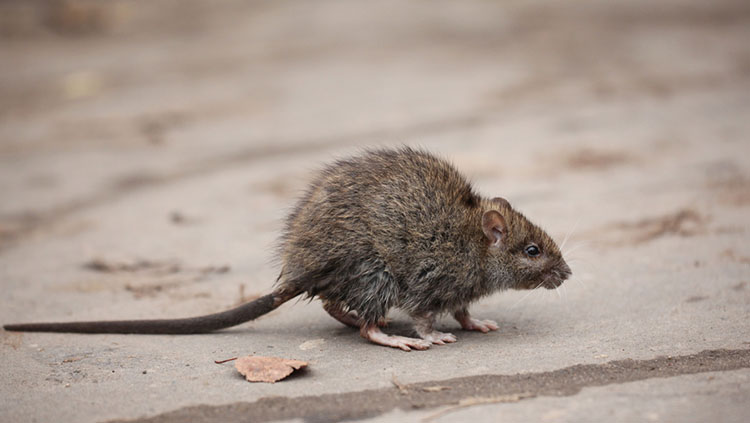rat: (65, 140, 587, 354)
